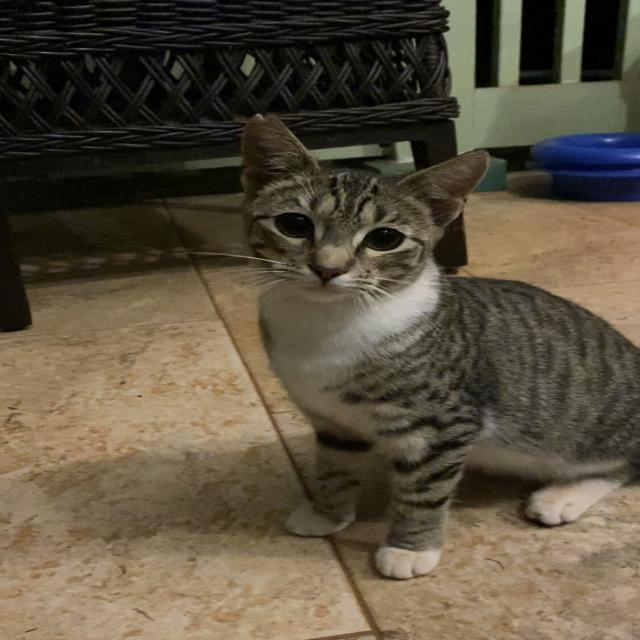domestic_short_hair_cat: (228, 102, 500, 332)
